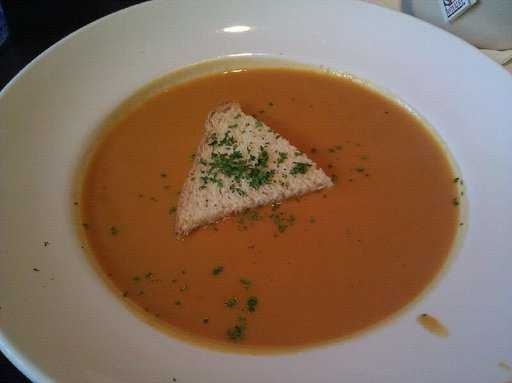soup: (61, 47, 464, 347)
